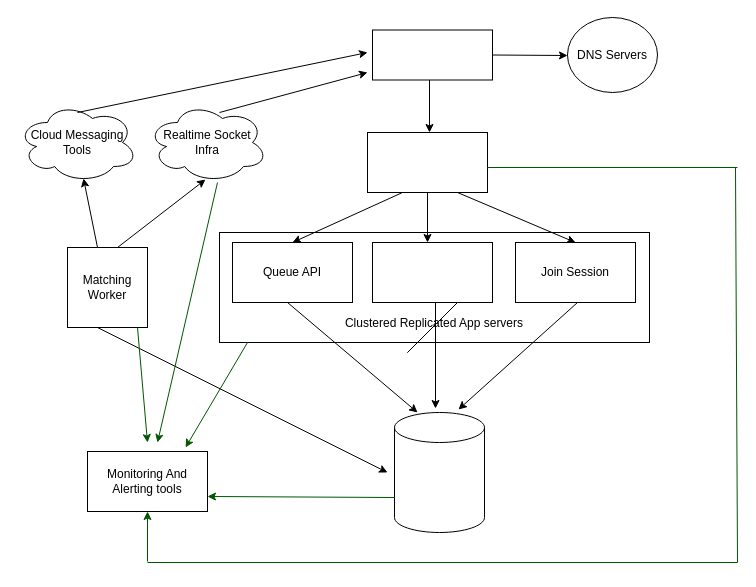
Image size: 756x587. Some labels were removed from this diagram. The shapes that lost their labels are listed below. From the top down, each one's box as (x1, y1, x2, y2) in pixels, then its label:
(372, 29, 492, 80): Client
(366, 132, 488, 192): Load balancer
(372, 242, 492, 302): Dequeue API
(394, 412, 484, 532): Replicated DBs (MySQL or PgSQL)
